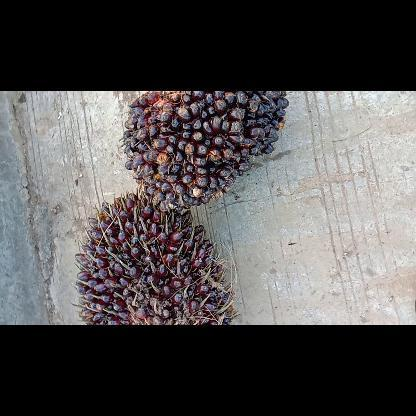TBS mentah: (74, 192, 238, 324), (121, 91, 290, 211)
